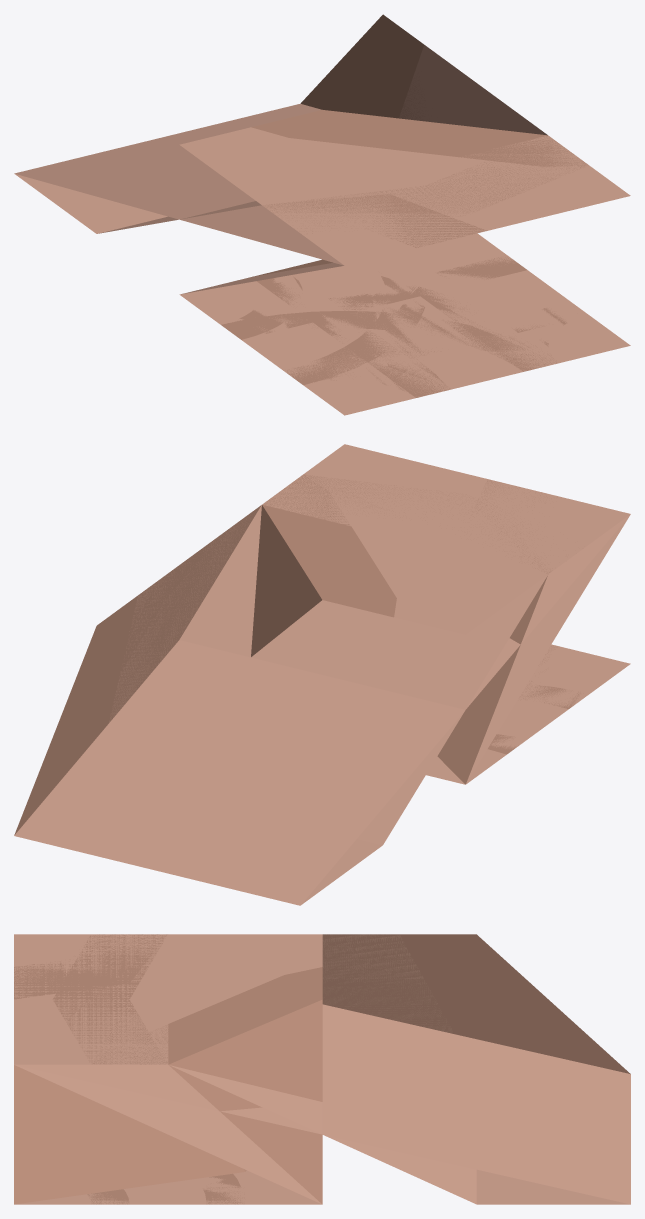
Rendered from terrain_models.glb.
The picture shows the model from 3 angles, top to bottom: view 1: azimuth 30°, elevation 25°; view 2: azimuth 150°, elevation 25°; view 3: azimuth 270°, elevation 25°; orthographic projection. The views are drawn at different scales.
Parts seen in each view (by area): view 1: terrain_rampLarge_detailed, terrain_sideCornerInner, terrain_rampLarge, terrain_roadCorner, terrain, terrain_roadCross, terrain_roadSplit, terrain_sideCorner, terrain_sideCliff, terrain_sideEnd, terrain_roadStraight; view 2: terrain_rampLarge, terrain_rampLarge_detailed, terrain_sideCornerInner, terrain_sideCliff, terrain, terrain_ramp, terrain_roadCorner, terrain_sideEnd, terrain_roadCross, terrain_roadSplit; view 3: terrain_rampLarge, terrain_rampLarge_detailed, terrain_sideCornerInner, terrain_sideCorner, terrain_sideCliff, terrain_ramp, terrain_roadSplit, terrain, terrain_roadCorner, terrain_roadCross.
Part boxes in pixels (x1=…): terrain_rampLarge_detailed: x1=14, y1=15, x2=630, y2=265; terrain_sideCornerInner: x1=179, y1=110, x2=629, y2=263; terrain_rampLarge: x1=14, y1=14, x2=428, y2=265; terrain_roadCorner: x1=181, y1=233, x2=630, y2=415; terrain: x1=180, y1=233, x2=630, y2=415; terrain_roadCross: x1=181, y1=236, x2=628, y2=414; terrain_roadSplit: x1=182, y1=237, x2=629, y2=414; terrain_sideCorner: x1=266, y1=194, x2=622, y2=341; terrain_sideCliff: x1=263, y1=136, x2=628, y2=282; terrain_sideEnd: x1=181, y1=235, x2=608, y2=338; terrain_roadStraight: x1=186, y1=281, x2=624, y2=411; terrain_rampLarge: x1=14, y1=505, x2=630, y2=905; terrain_rampLarge_detailed: x1=15, y1=444, x2=630, y2=904; terrain_sideCornerInner: x1=251, y1=445, x2=624, y2=656; terrain_sideCliff: x1=264, y1=444, x2=627, y2=784; terrain: x1=466, y1=644, x2=630, y2=783; terrain_ramp: x1=426, y1=515, x2=629, y2=784; terrain_roadCorner: x1=468, y1=645, x2=629, y2=781; terrain_sideEnd: x1=453, y1=517, x2=628, y2=783; terrain_roadCross: x1=501, y1=645, x2=629, y2=727; terrain_roadSplit: x1=467, y1=646, x2=628, y2=782; terrain_rampLarge: x1=14, y1=934, x2=630, y2=1204; terrain_rampLarge_detailed: x1=14, y1=934, x2=630, y2=1204; terrain_sideCornerInner: x1=14, y1=934, x2=322, y2=1204; terrain_sideCorner: x1=14, y1=934, x2=319, y2=1204; terrain_sideCliff: x1=14, y1=934, x2=166, y2=1064; terrain_ramp: x1=15, y1=1065, x2=321, y2=1203; terrain_roadSplit: x1=16, y1=1170, x2=317, y2=1204; terrain: x1=17, y1=1178, x2=321, y2=1204; terrain_roadCorner: x1=25, y1=1171, x2=320, y2=1204; terrain_roadCross: x1=21, y1=1182, x2=320, y2=1204.
Size of the model in its own units: 1 by 0.5 by 2.
